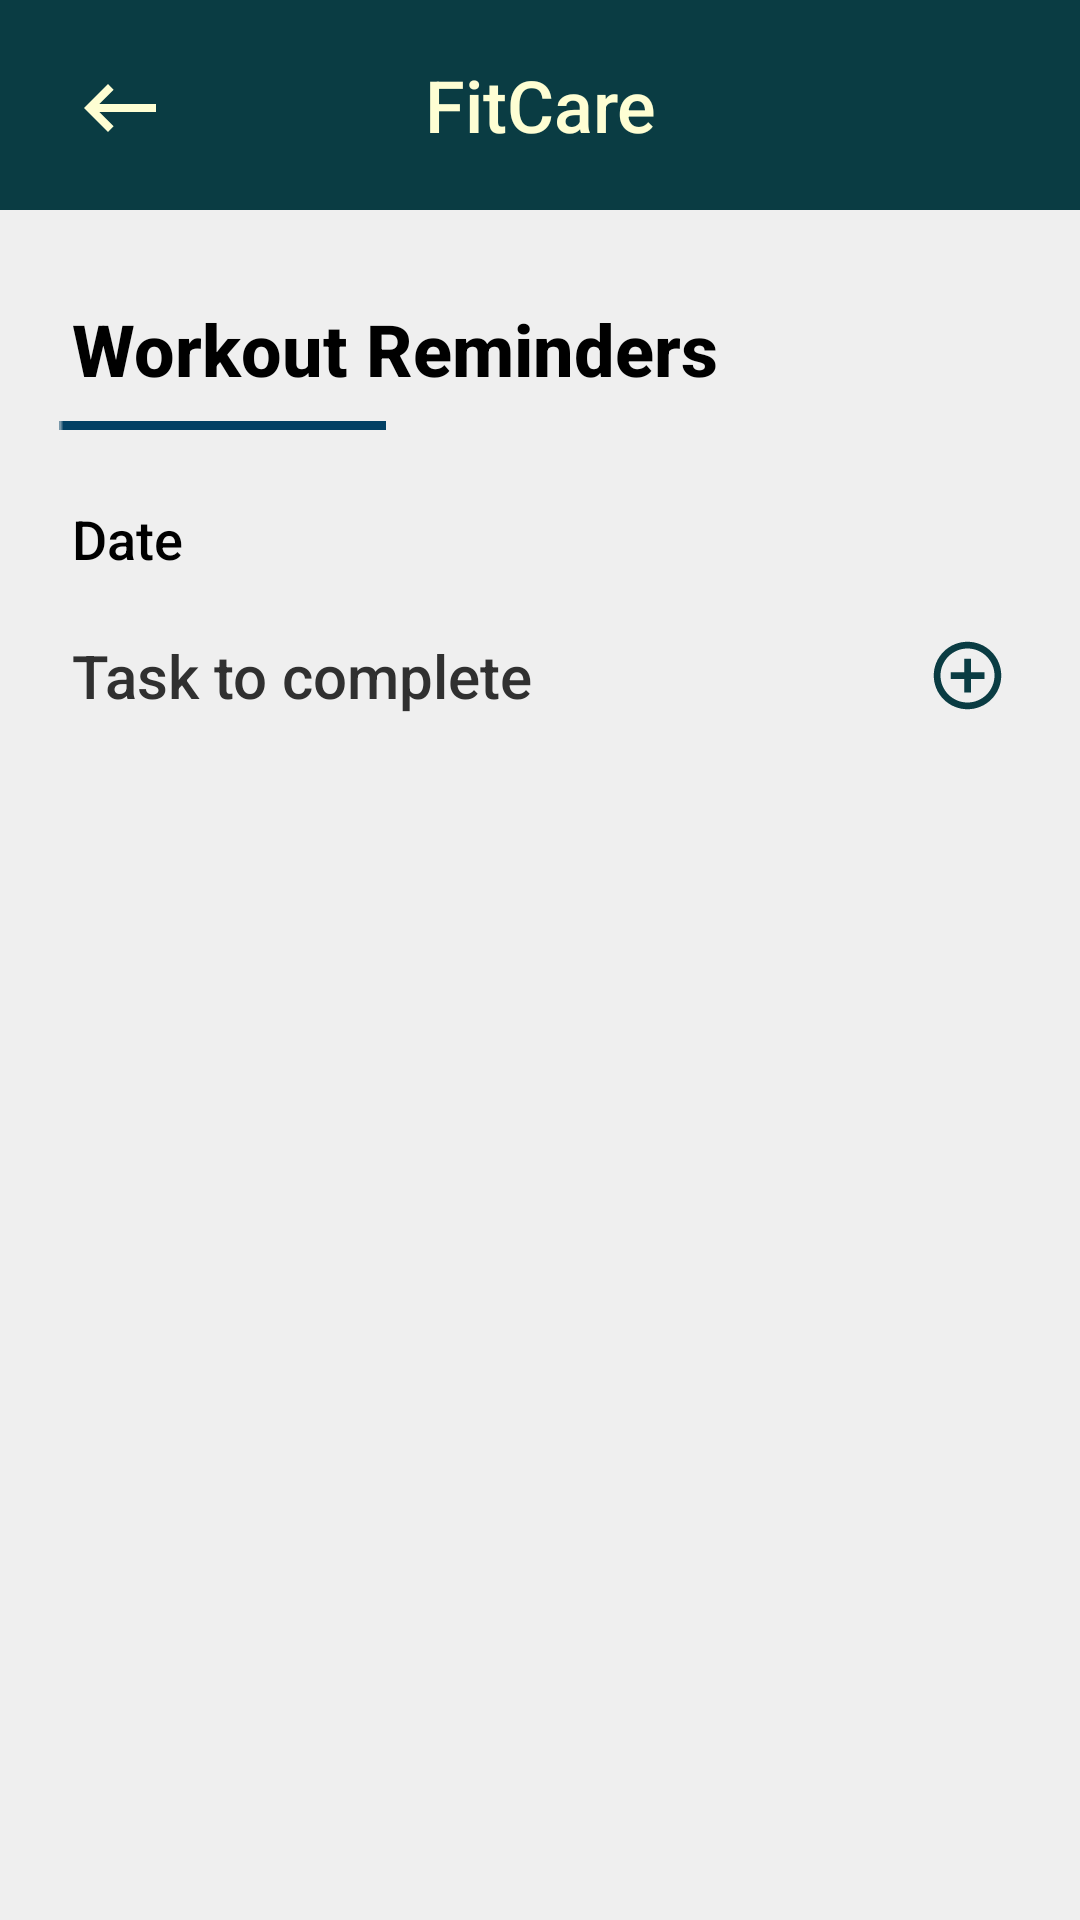

Screen size 1080x1920. Icon name, then its box in pixels as (x1, y1, x2, y2):
add: (933, 641, 1002, 710)
back: (84, 84, 156, 132)
